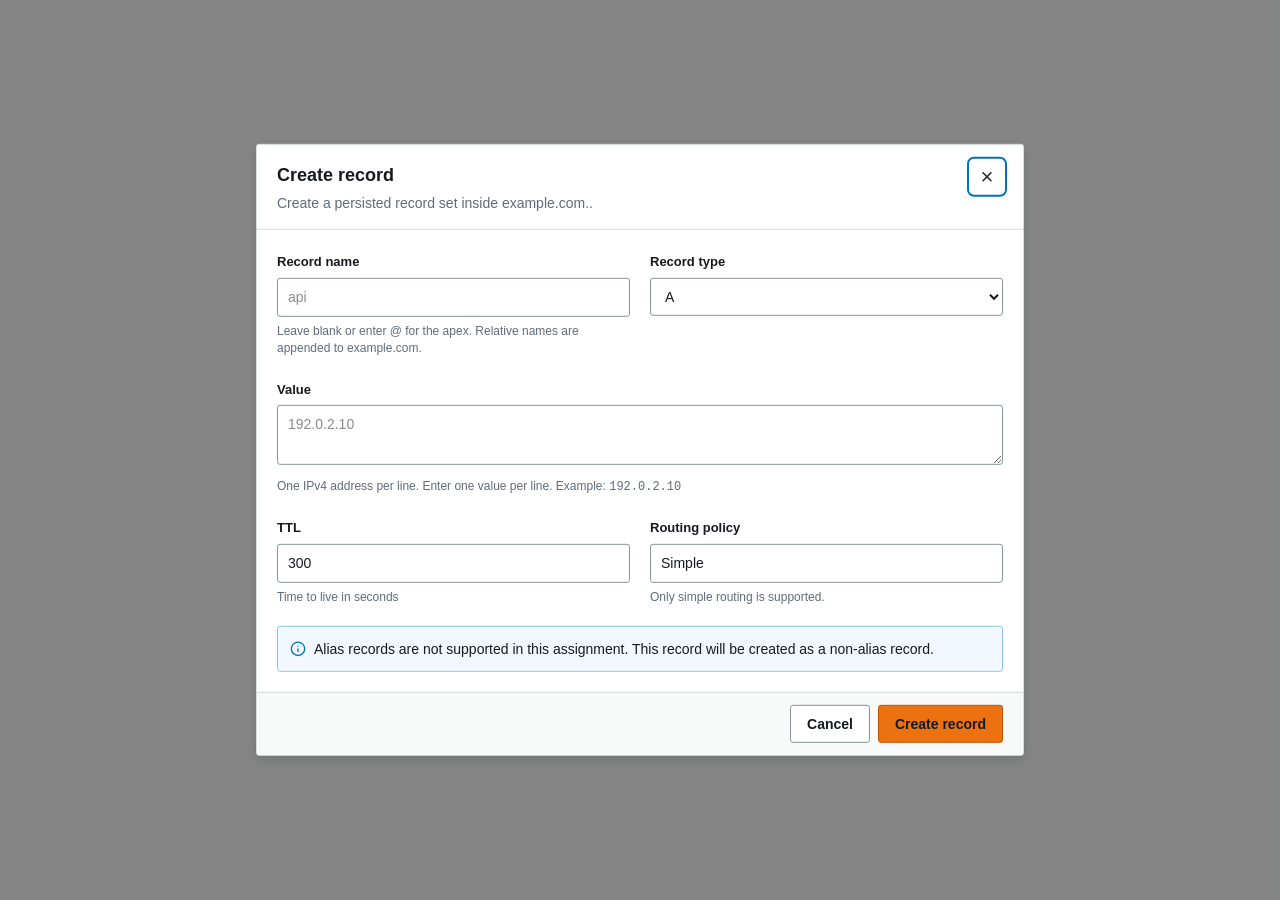
DNSRecordForm › requires values and validates TTL
Replace the text in the number field labelled "TTL" with "0" at (454, 563), box [277, 544, 630, 583]
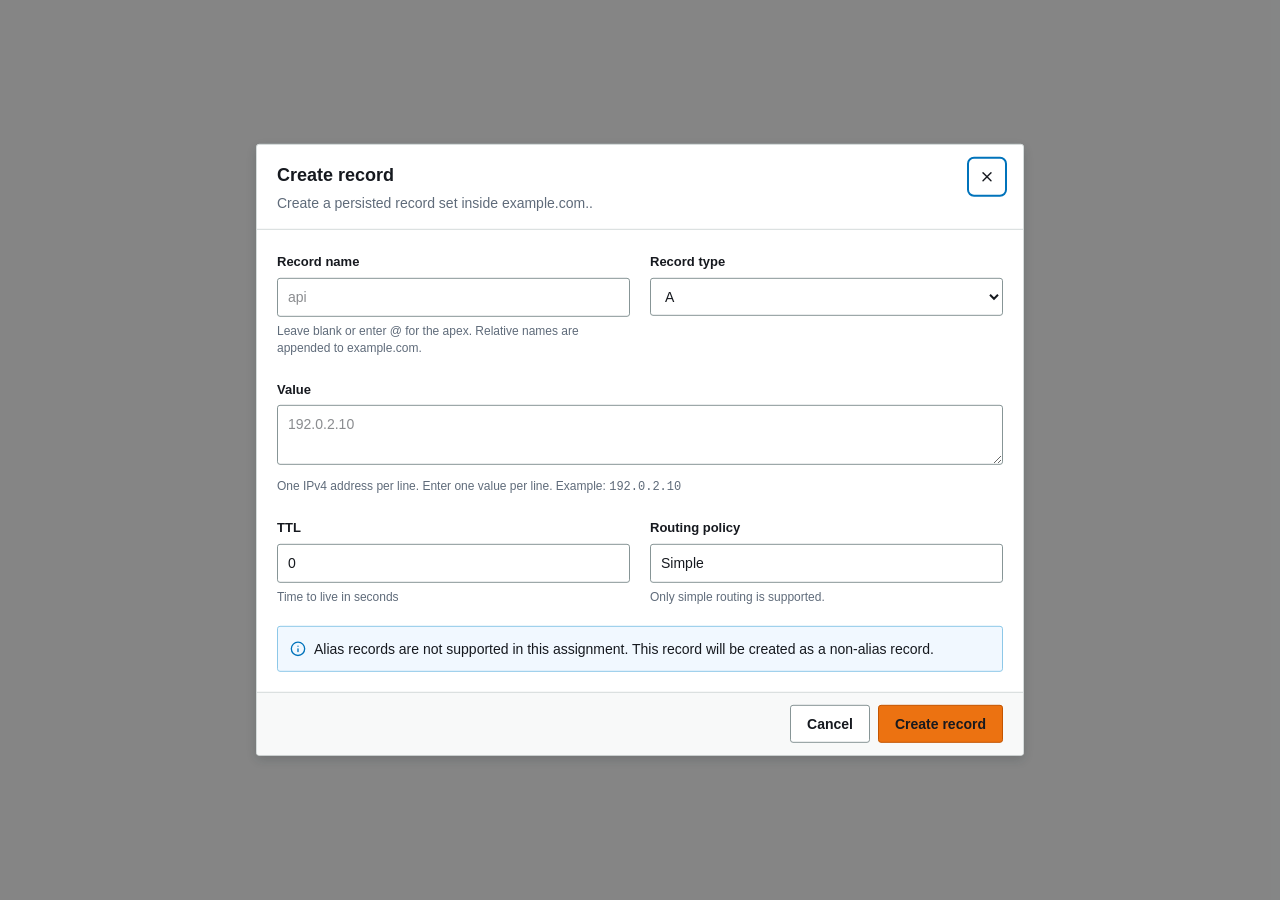
Click the button "Create record" at (940, 724), box [878, 705, 1003, 743]
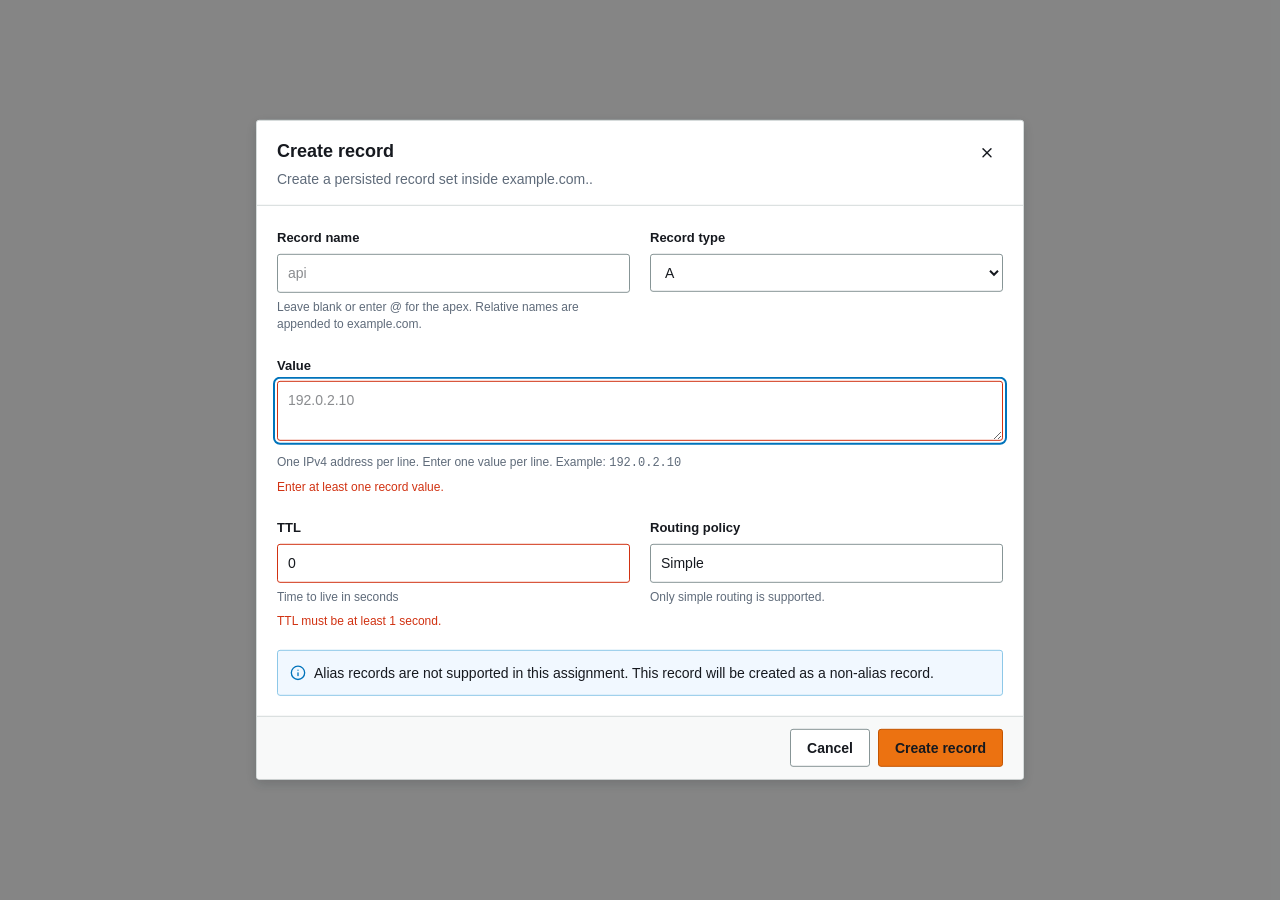
Check: the text "Enter at least one record value." is shown, box [277, 480, 444, 494]
Check: the text "TTL must be at least 1 second." is shown, box [277, 614, 441, 628]
